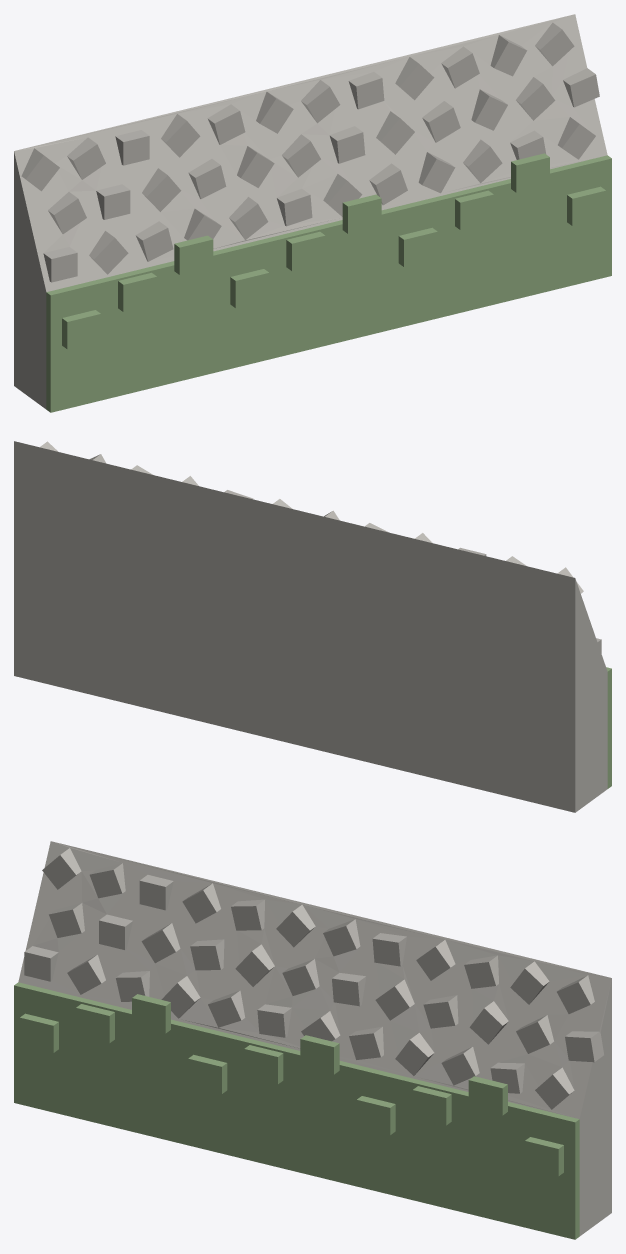
Rendered from r-154-bay-riprap-marsh-levee.glb.
The picture shows the model from 3 angles, top to bottom: view 1: azimuth 30°, elevation 25°; view 2: azimuth 150°, elevation 25°; view 3: azimuth 330°, elevation 25°; orthographic projection.
Parts seen in each view (by area): view 1: riprap, pickleweed-marsh; view 2: riprap, pickleweed-marsh; view 3: riprap, pickleweed-marsh.
Part boxes in pixels (x1,y1,x2,y2): riprap: [14, 14, 607, 409]; pickleweed-marsh: [46, 153, 611, 412]; riprap: [14, 441, 607, 812]; pickleweed-marsh: [606, 667, 611, 788]; riprap: [18, 841, 611, 1236]; pickleweed-marsh: [14, 982, 579, 1239].
Size of the model in its own units: 30194 by 12000 by 3901.
